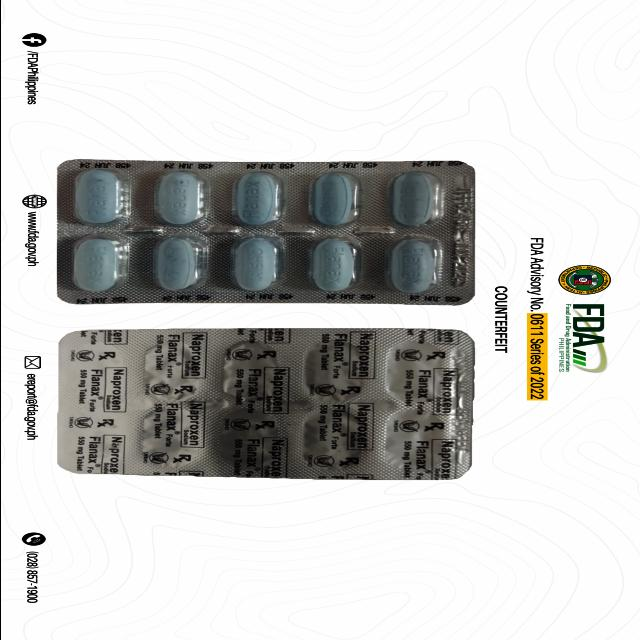counterfeit: (52, 157, 476, 305), (53, 328, 477, 476)
